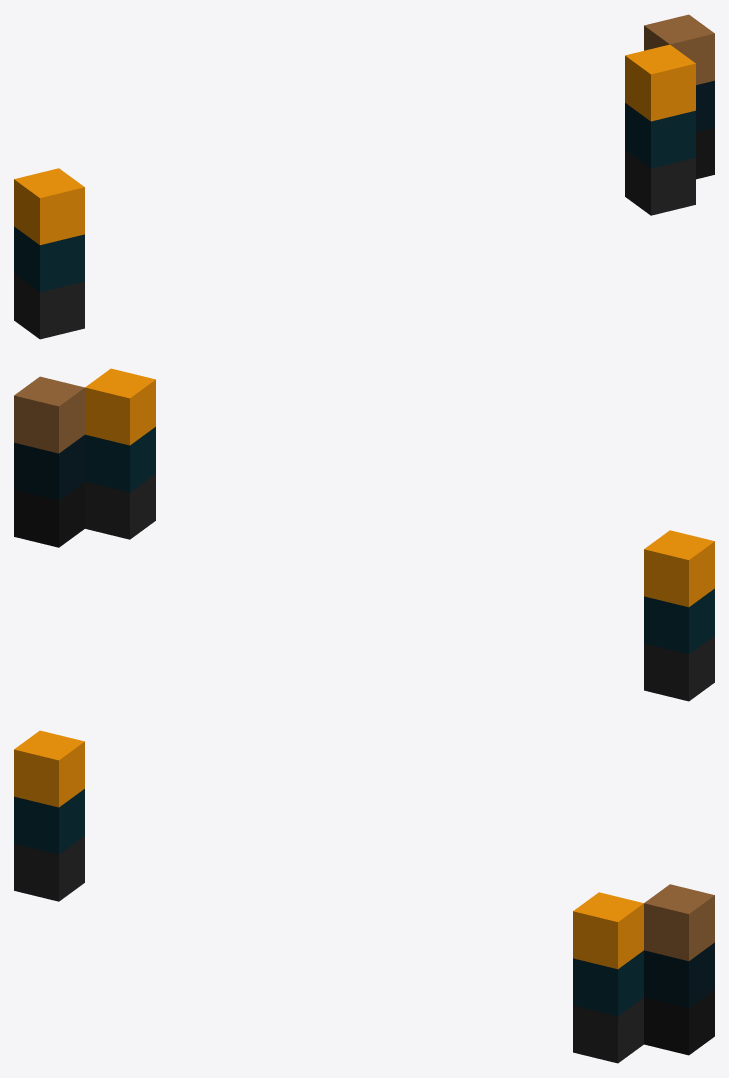
File: pen3-5.obj
The picture shows the model from 3 angles, top to bottom: view 1: azimuth 30°, elevation 25°; view 2: azimuth 150°, elevation 25°; view 3: azimuth 330°, elevation 25°; orthographic projection.
Size of the model in its own units: 1.5 by 0.3 by 0.2.
Materials: 1 (1 with a texture image).
